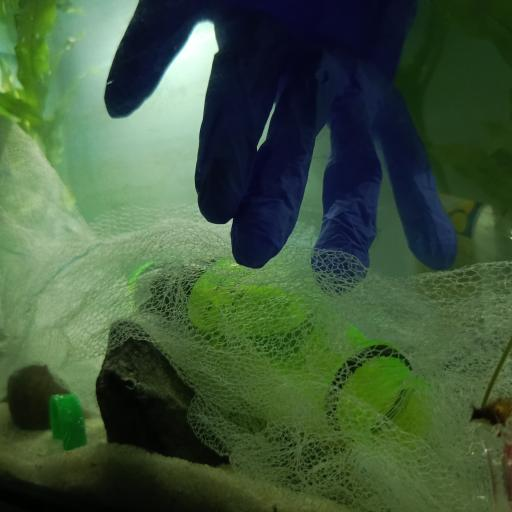bottle_cap: (52, 392, 86, 450)
glove: (106, 0, 459, 292)
net: (17, 124, 511, 512)
plastic_bottle: (126, 260, 431, 450), (436, 191, 512, 270), (457, 412, 512, 512)
